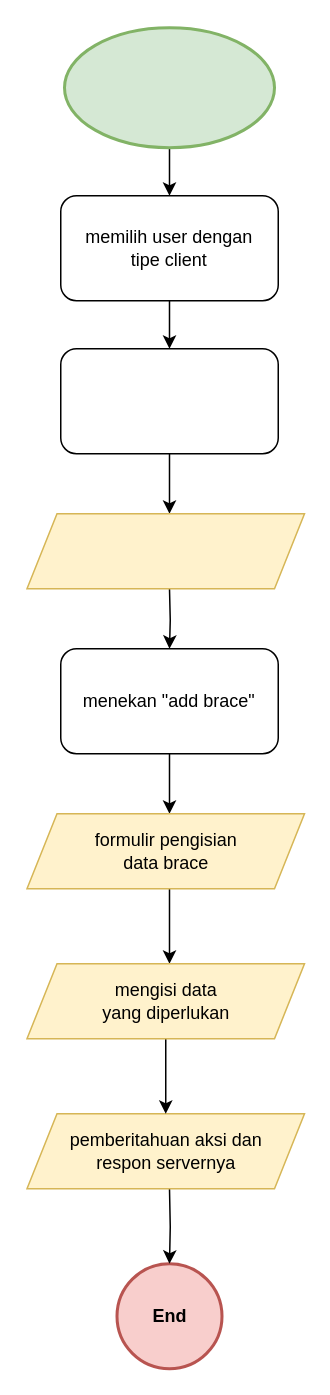
The diagram is 330 pixels wide and 1395 high, and some of its shapes have lost their labels. The shapes that lost their labels are listed below. From the top down, each one's box as (x1, y1, x2, y2) in pixels, then its label:
(62, 26, 275, 148): Melihat informasi user terdaftar
(59, 347, 278, 454): menekan tombol brace
(26, 512, 304, 589): halaman brace client
